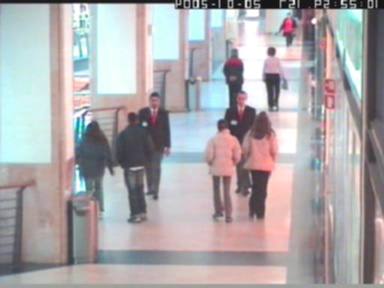person: (115, 111, 155, 223), (135, 91, 171, 200), (241, 112, 277, 219), (204, 119, 240, 222), (76, 122, 114, 218), (223, 91, 257, 196), (261, 47, 288, 111), (223, 47, 245, 108), (279, 12, 297, 46), (310, 16, 316, 53)
